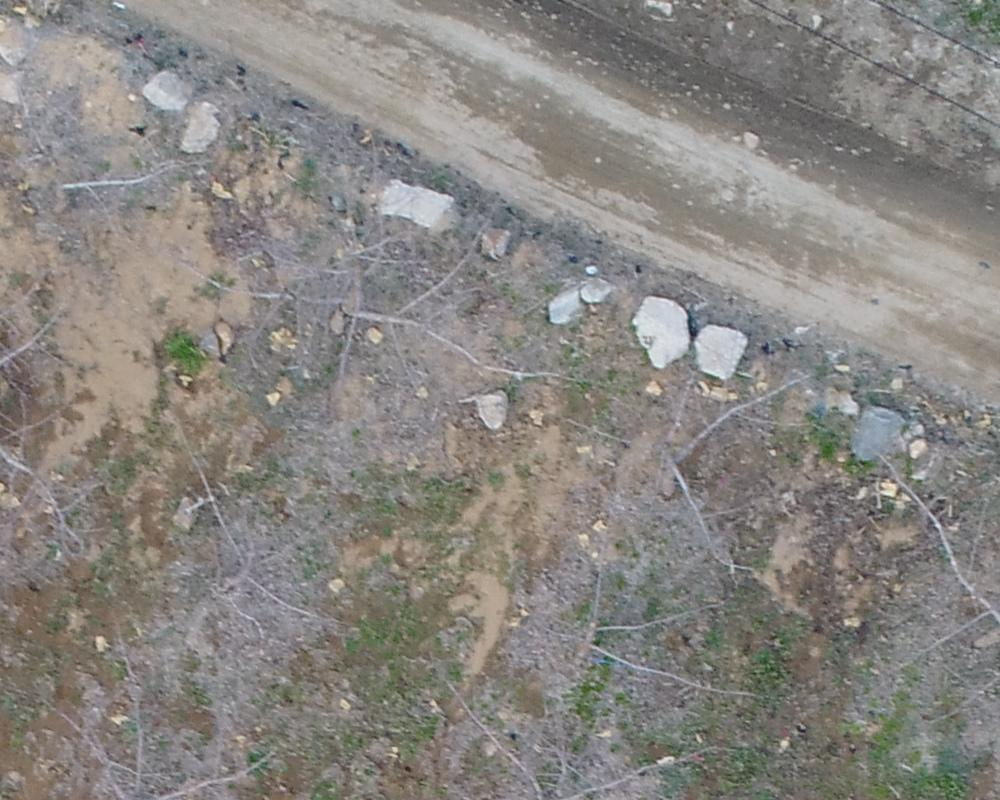apple: (211, 211, 546, 426), (610, 352, 825, 575), (157, 466, 361, 666), (23, 672, 288, 790), (435, 694, 729, 790)
